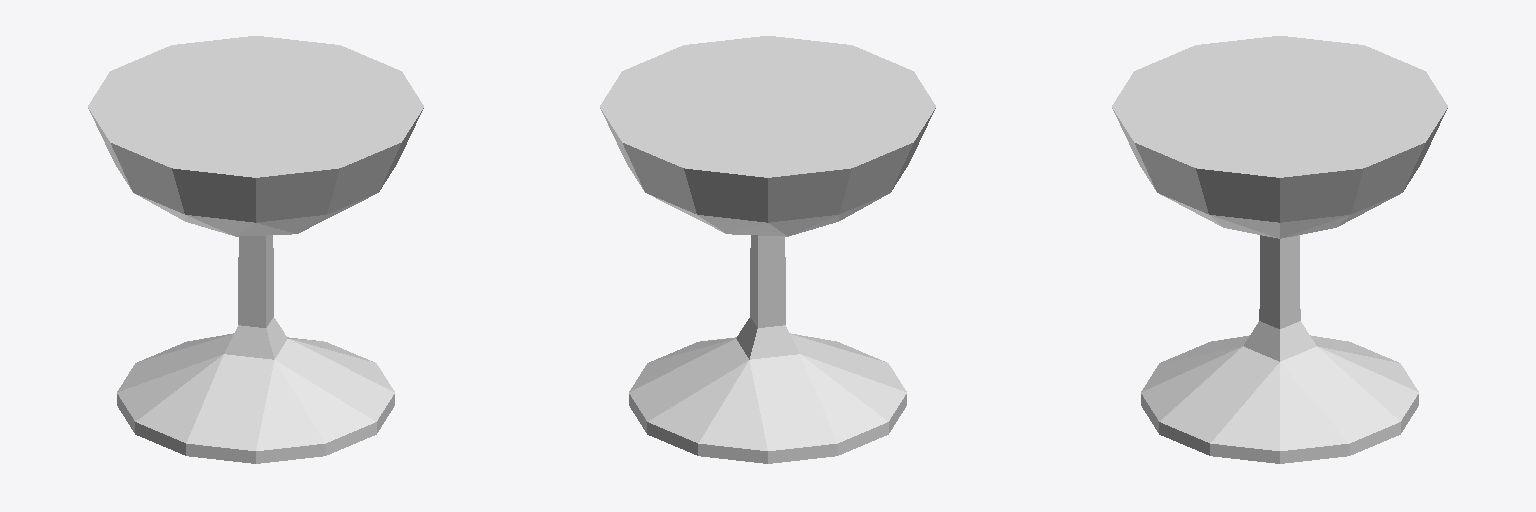
File: stg600_obj_planterA_bp1.obj
The picture shows the model from 3 angles: view 1: azimuth 30°, elevation 25°; view 2: azimuth 150°, elevation 25°; view 3: azimuth 270°, elevation 25°; orthographic projection.
Visible parts, largest first — view 1: polygon0, polygon2, polygon1; view 2: polygon0, polygon2, polygon1; view 3: polygon0, polygon2, polygon1.
Boxes of the visible parts, x1=… form: polygon0: x1=88, y1=36, x2=423, y2=463; polygon2: x1=113, y1=46, x2=398, y2=166; polygon1: x1=224, y1=235, x2=287, y2=359; polygon0: x1=600, y1=36, x2=935, y2=463; polygon2: x1=625, y1=46, x2=910, y2=166; polygon1: x1=736, y1=235, x2=799, y2=359; polygon0: x1=1112, y1=36, x2=1447, y2=463; polygon2: x1=1137, y1=46, x2=1422, y2=166; polygon1: x1=1244, y1=235, x2=1315, y2=361.
Bounding box in the file's own units: 15.73 × 15.38 × 15.73.